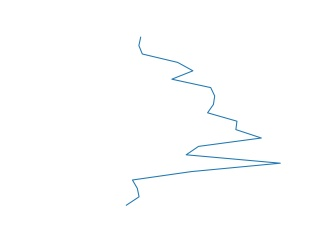floodSwamp: (123, 36, 283, 207)
